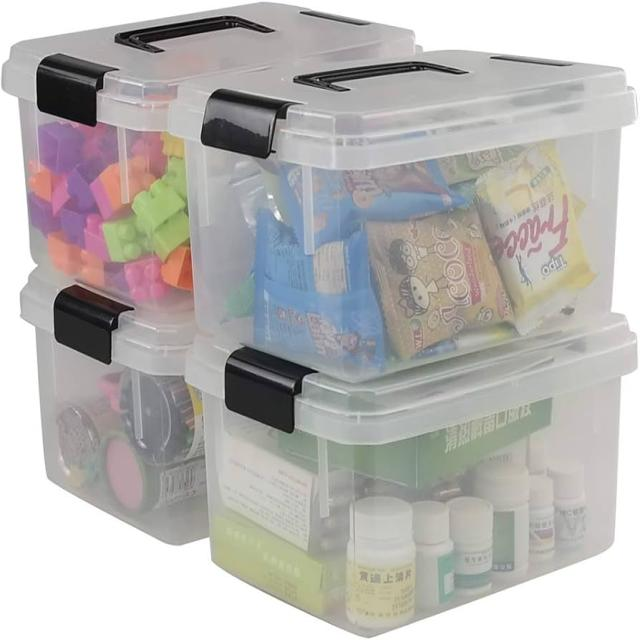plastic_box: (7, 1, 630, 639), (153, 28, 639, 639)
